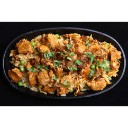briyani: (12, 36, 119, 90)
